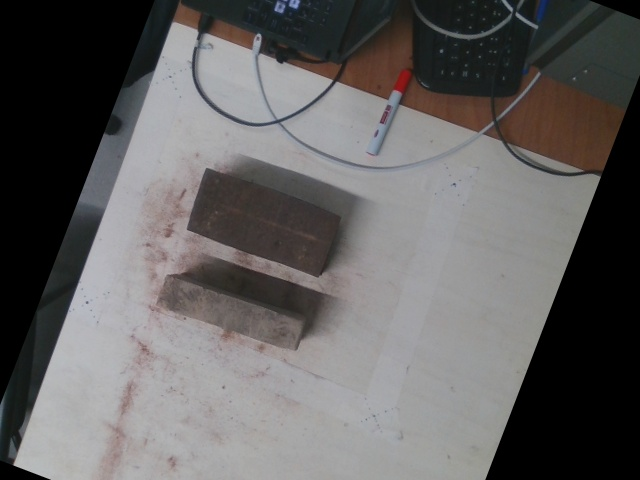brick: (184, 170, 337, 276)
brick-side: (157, 277, 301, 350)
